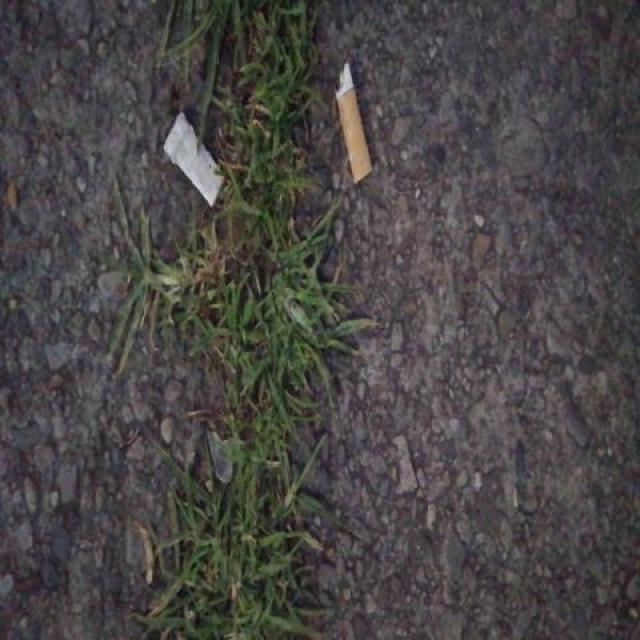non-organic waste: (158, 108, 231, 212), (331, 58, 374, 191)
